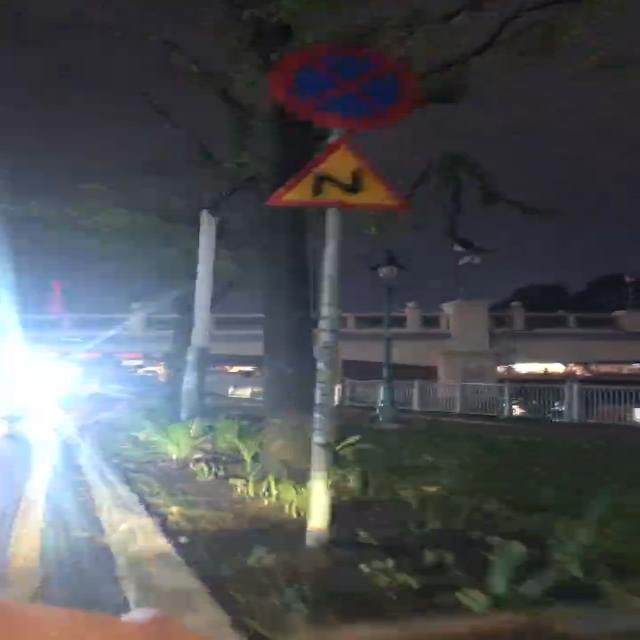Bien bao nhieu cho ngoat nguy hiem lien tiep: (270, 138, 400, 218)
